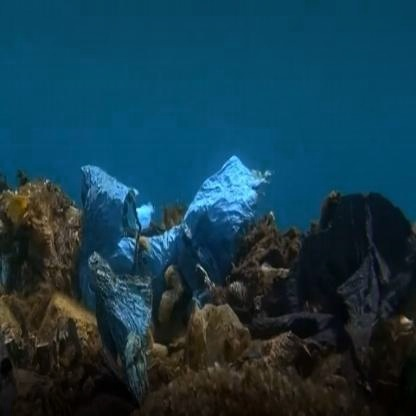plastic: (242, 187, 416, 341), (68, 181, 223, 332)
